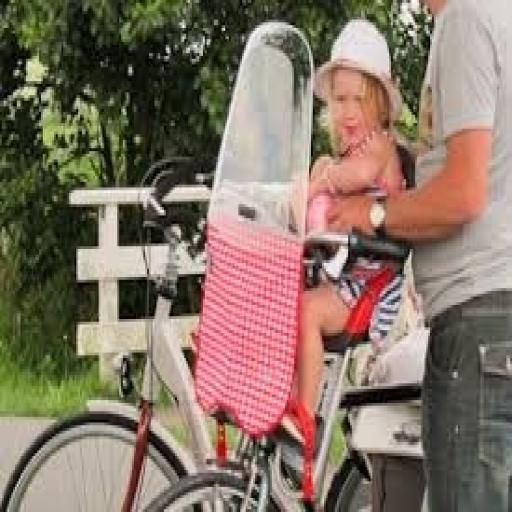cycling: (318, 0, 510, 509), (278, 16, 414, 504)
